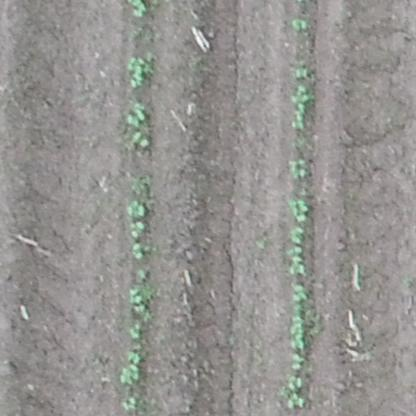vc: (292, 85, 310, 130), (285, 246, 309, 277), (128, 56, 151, 88), (290, 311, 308, 349), (117, 364, 142, 388), (290, 196, 311, 222), (289, 154, 311, 178), (128, 289, 149, 311), (289, 284, 308, 305), (289, 352, 307, 374), (286, 226, 306, 245), (127, 199, 146, 218), (127, 220, 146, 239), (285, 395, 310, 409), (129, 1, 148, 19), (129, 242, 147, 260), (132, 131, 151, 147), (119, 394, 139, 409), (127, 322, 143, 339), (127, 349, 145, 364), (287, 378, 305, 392), (292, 16, 310, 29), (293, 67, 312, 79), (127, 113, 141, 125), (136, 267, 147, 279)
